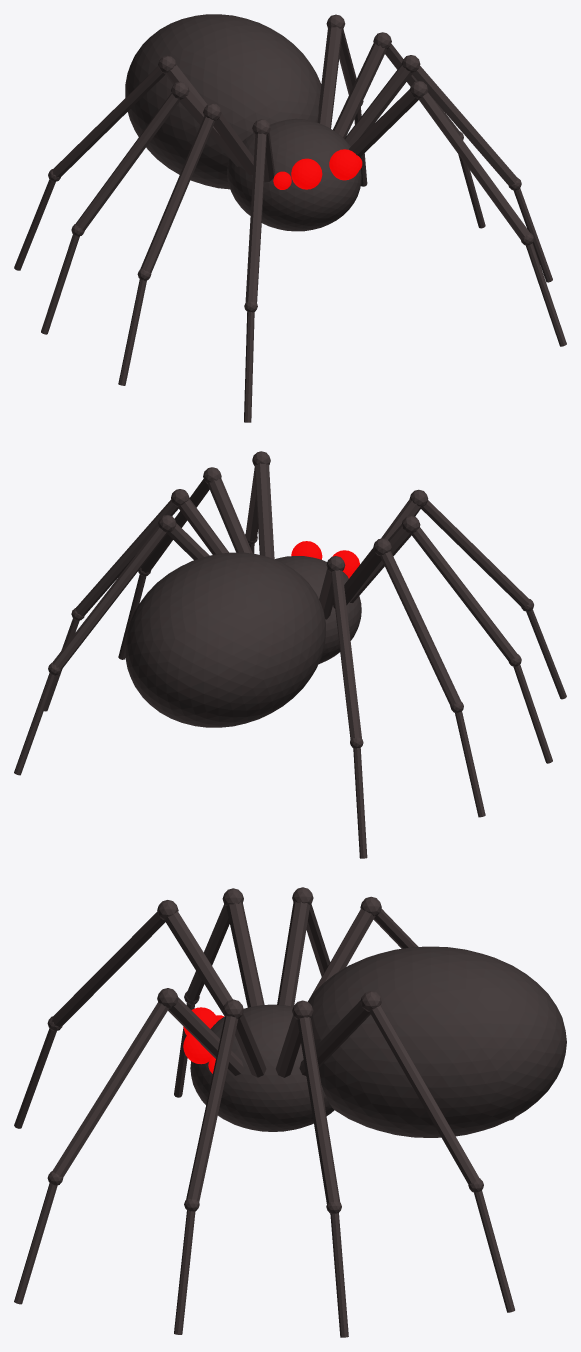
Rendered from spider.glb.
The picture shows the model from 3 angles, top to bottom: view 1: azimuth 30°, elevation 25°; view 2: azimuth 150°, elevation 25°; view 3: azimuth 270°, elevation 25°; orthographic projection. The views are drawn at different scales.
Visible parts, largest first — view 1: abdomen, cephalothorax, leg_1_0_tibia, leg_-1_1_tibia, leg_-1_0_tibia, leg_-1_2_tibia, leg_1_1_tibia, leg_-1_3_tibia, leg_1_2_femur, leg_1_3_femur, leg_1_1_femur, leg_1_0_femur (+12 smaller); view 2: abdomen, cephalothorax, leg_1_3_tibia, leg_-1_3_tibia, leg_-1_2_tibia, leg_-1_1_tibia, leg_-1_0_tibia, leg_1_2_tibia, leg_1_0_femur, leg_1_1_femur, leg_1_2_femur, leg_-1_3_tarsus (+9 smaller); view 3: abdomen, cephalothorax, leg_1_3_tibia, leg_1_0_tibia, leg_1_2_tibia, leg_1_1_tibia, leg_-1_0_tibia, leg_-1_1_femur, leg_-1_2_femur, leg_-1_0_femur, leg_1_0_femur, leg_-1_3_femur (+12 smaller).
Part boxes in pixels (<box>): abdomen: <box>125,14,321,189</box>; cephalothorax: <box>227,118,361,231</box>; leg_1_0_tibia: <box>418,92,529,239</box>; leg_-1_1_tibia: <box>140,116,214,273</box>; leg_-1_0_tibia: <box>245,133,266,302</box>; leg_-1_2_tibia: <box>75,93,180,230</box>; leg_1_1_tibia: <box>412,66,517,185</box>; leg_-1_3_tibia: <box>52,66,165,177</box>; leg_1_2_femur: <box>333,43,386,138</box>; leg_1_3_femur: <box>317,27,342,128</box>; leg_1_1_femur: <box>344,64,412,146</box>; leg_1_0_femur: <box>349,89,418,157</box>; abdomen: <box>125,552,325,727</box>; cephalothorax: <box>275,556,361,663</box>; leg_1_3_tibia: <box>52,526,167,669</box>; leg_-1_3_tibia: <box>331,570,361,739</box>; leg_-1_2_tibia: <box>380,551,460,705</box>; leg_-1_1_tibia: <box>411,527,517,661</box>; leg_-1_0_tibia: <box>421,500,529,607</box>; leg_1_2_tibia: <box>75,499,178,615</box>; leg_1_0_femur: <box>254,463,274,559</box>; leg_1_1_femur: <box>207,478,252,553</box>; leg_1_2_femur: <box>178,498,228,554</box>; leg_-1_3_tarsus: <box>353,748,367,858</box>; abdomen: <box>308,946,566,1137</box>; cephalothorax: <box>190,1004,334,1131</box>; leg_1_3_tibia: <box>369,1005,479,1184</box>; leg_1_0_tibia: <box>52,1002,168,1178</box>; leg_1_2_tibia: <box>297,1017,339,1203</box>; leg_1_1_tibia: <box>186,1015,238,1201</box>; leg_-1_0_tibia: <box>51,911,165,1026</box>; leg_-1_1_femur: <box>226,902,264,1007</box>; leg_-1_2_femur: <box>277,901,310,1006</box>; leg_-1_0_femur: <box>164,911,232,1016</box>; leg_1_0_femur: <box>168,997,243,1075</box>; leg_-1_3_femur: <box>309,908,375,998</box>.
Size of the model in its own units: 0.1639 by 0.0834 by 0.1542.
